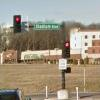Traffic light: (9, 13, 23, 46)
